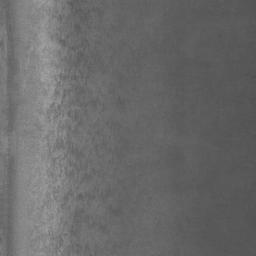Silk spot: (27, 0, 129, 256), (164, 107, 185, 133), (175, 216, 190, 238), (168, 146, 181, 160)
